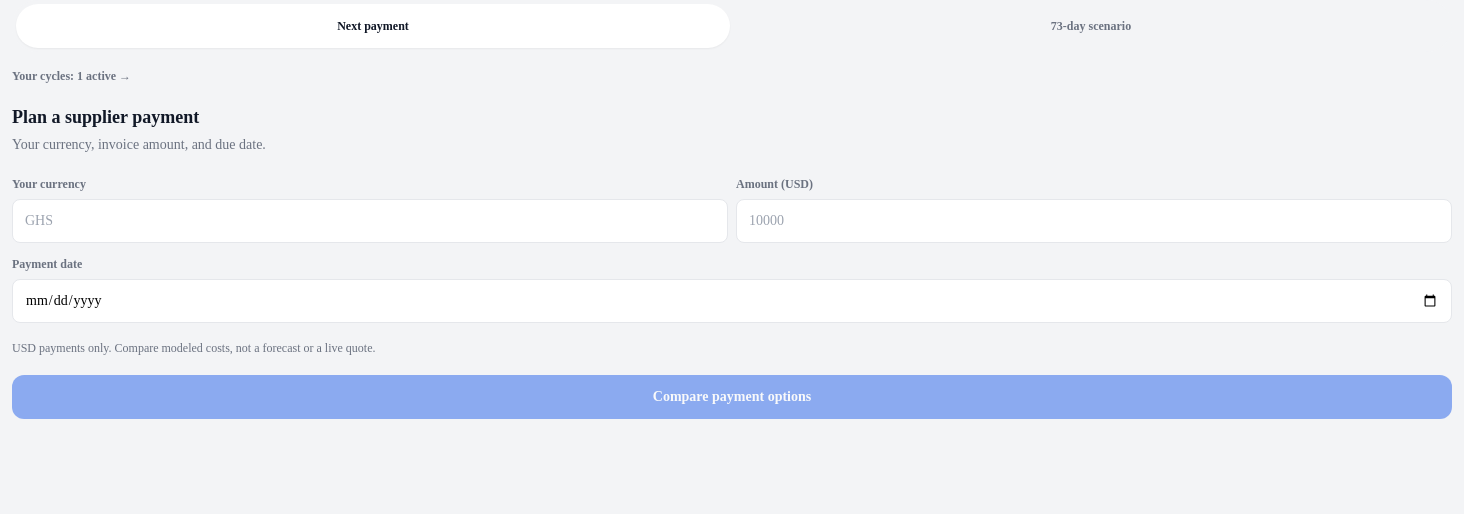
it: PaymentCycleReport — report views › reopens saved scenarios without refreshing rates or enabling monitoring
Click the button "Your cycles: 1 active →": (72, 76) top-left (12, 68), bottom-right (131, 84)
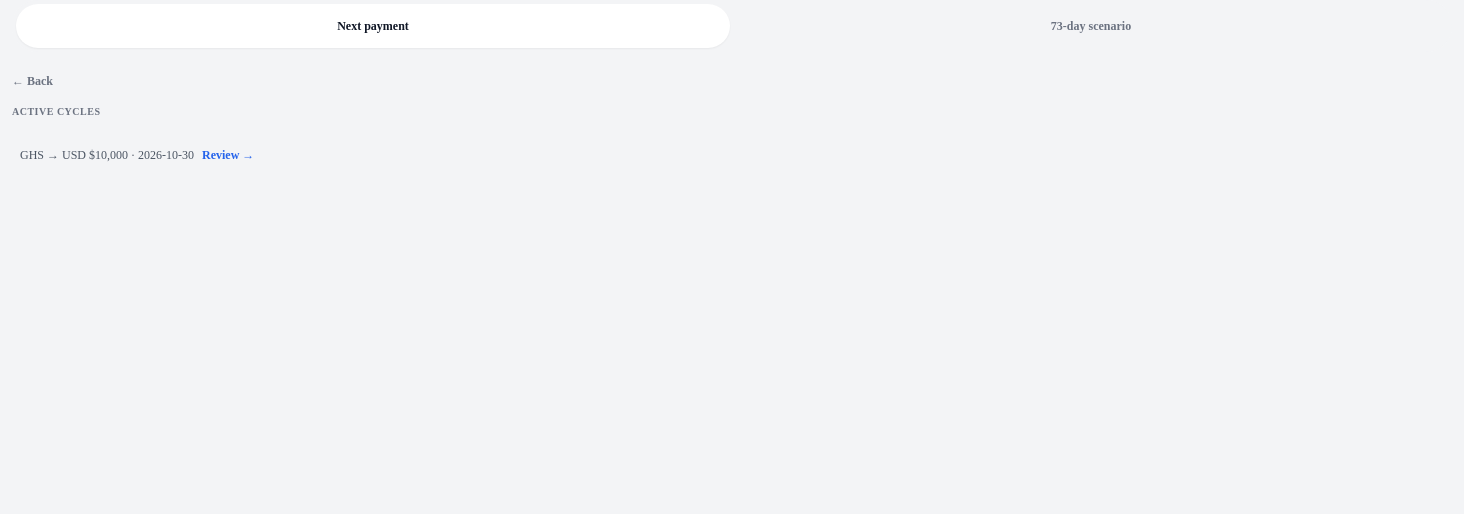
Click the button with aria-label "Review saved GHS payment due 2026-10-30": (228, 155) top-left (202, 133), bottom-right (254, 177)
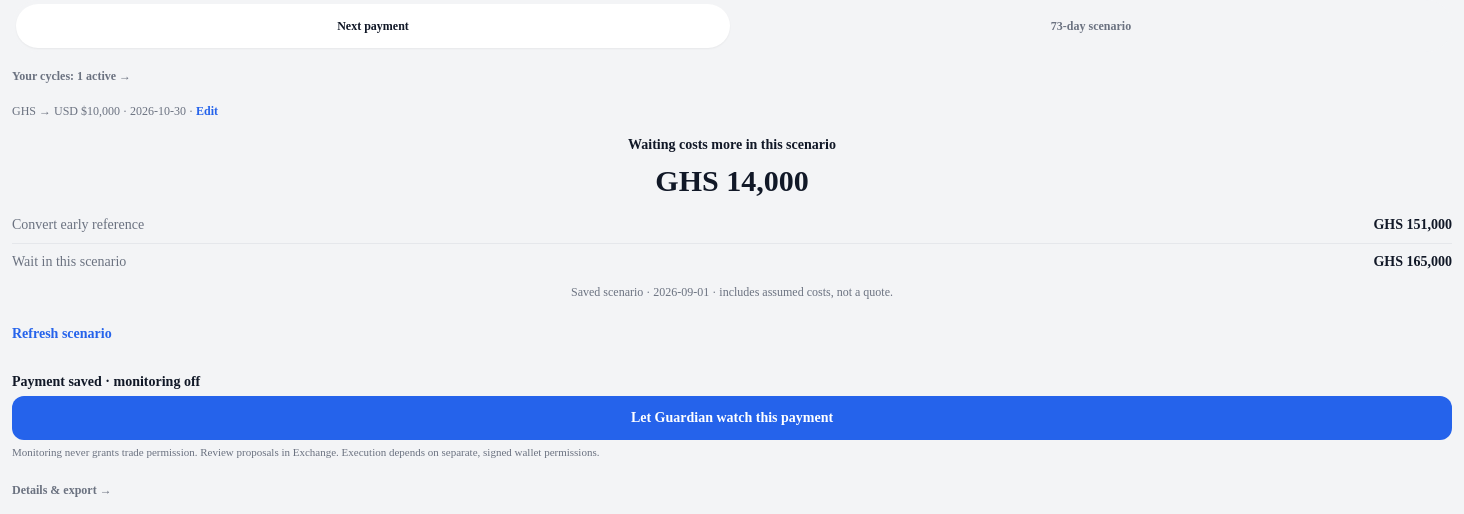
Check: the element with test id "payment-comparison" is shown, box top-left (12, 135), bottom-right (1452, 272)
Check: the text "Saved scenario · 2026-09-01" is shown, box top-left (571, 285), bottom-right (893, 299)
Check: the button "Refresh scenario" is shown, box top-left (12, 312), bottom-right (112, 356)
